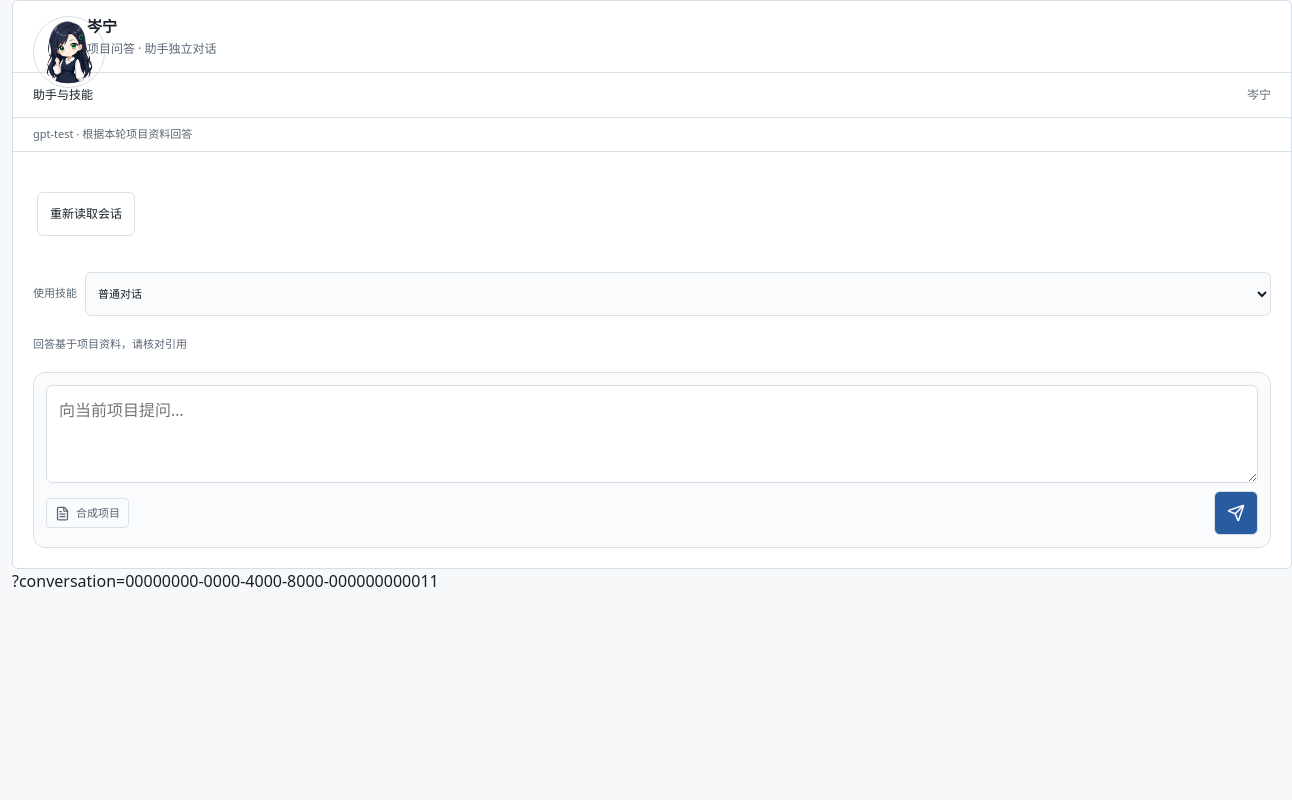
Scenario: 409 keeps the draft and requires an explicit reread before another send
Expected: the text "gpt-test" is shown, [33,126,74,141]
In the text box named "向项目知识提问": [652, 434] box [46,385,1258,483], type "冲突后保留草稿"
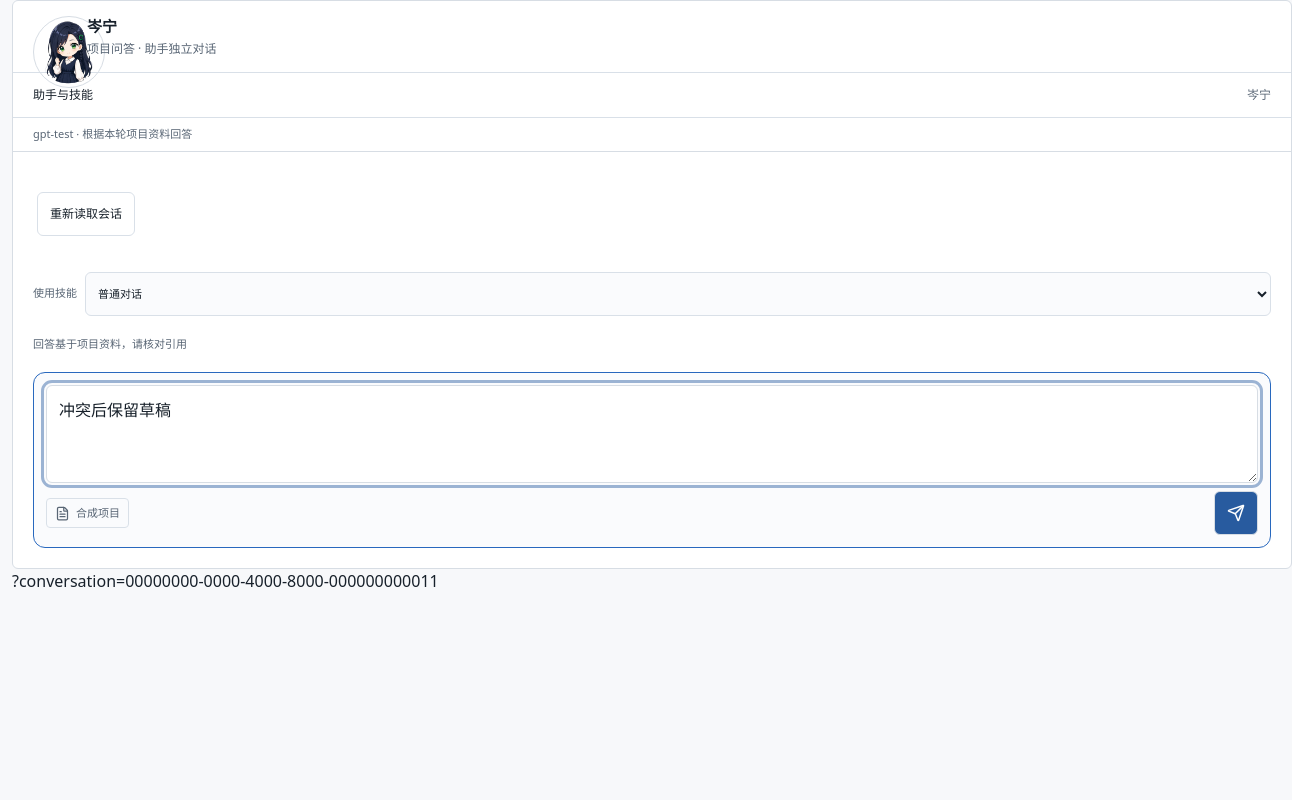
Click the button named "生成回答": [1236, 513] box [1214,491,1258,535]
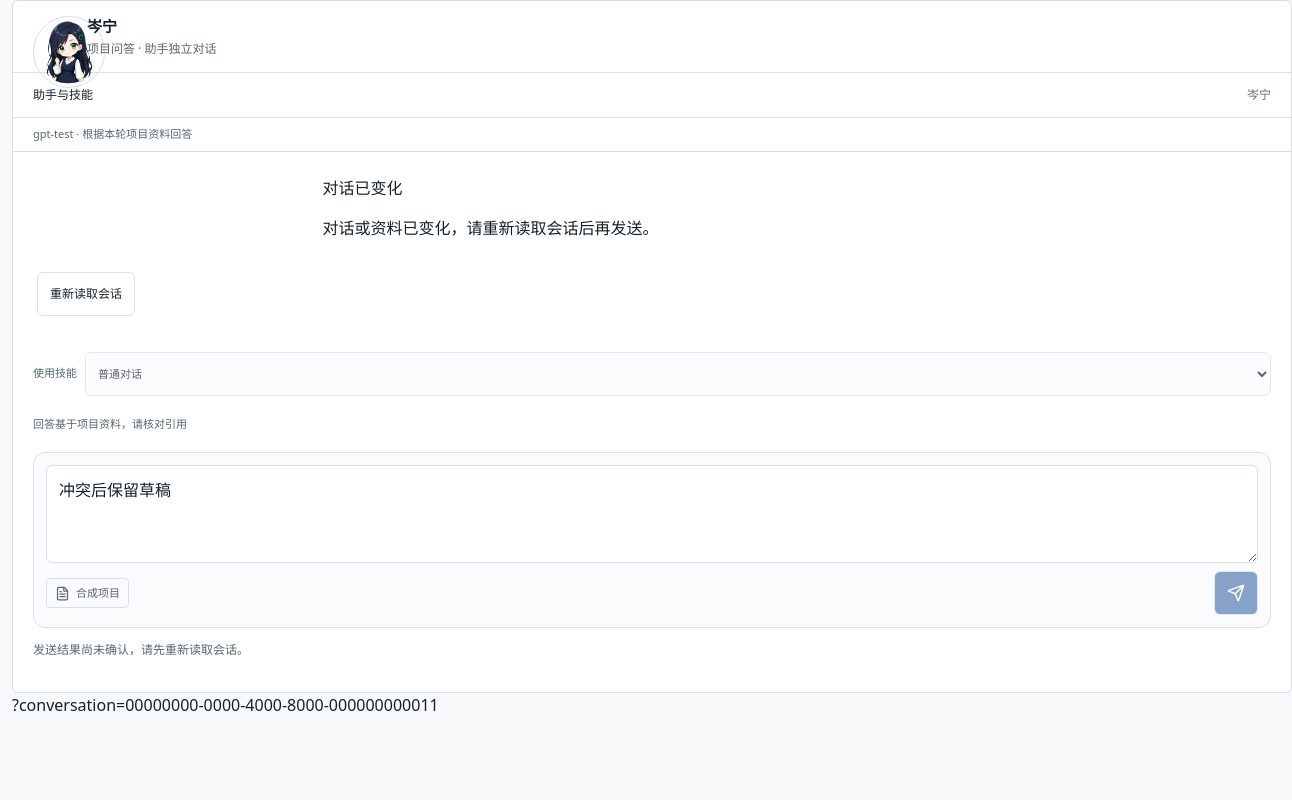
Now the text "对话或资料已变化，请重新读取会话后再发送。" is shown, box [322,216,658,238]
Now the button named "生成回答" is disabled, box [1214,571,1258,615]
Click the button "重新读取会话": [86, 294] box [37,272,135,316]
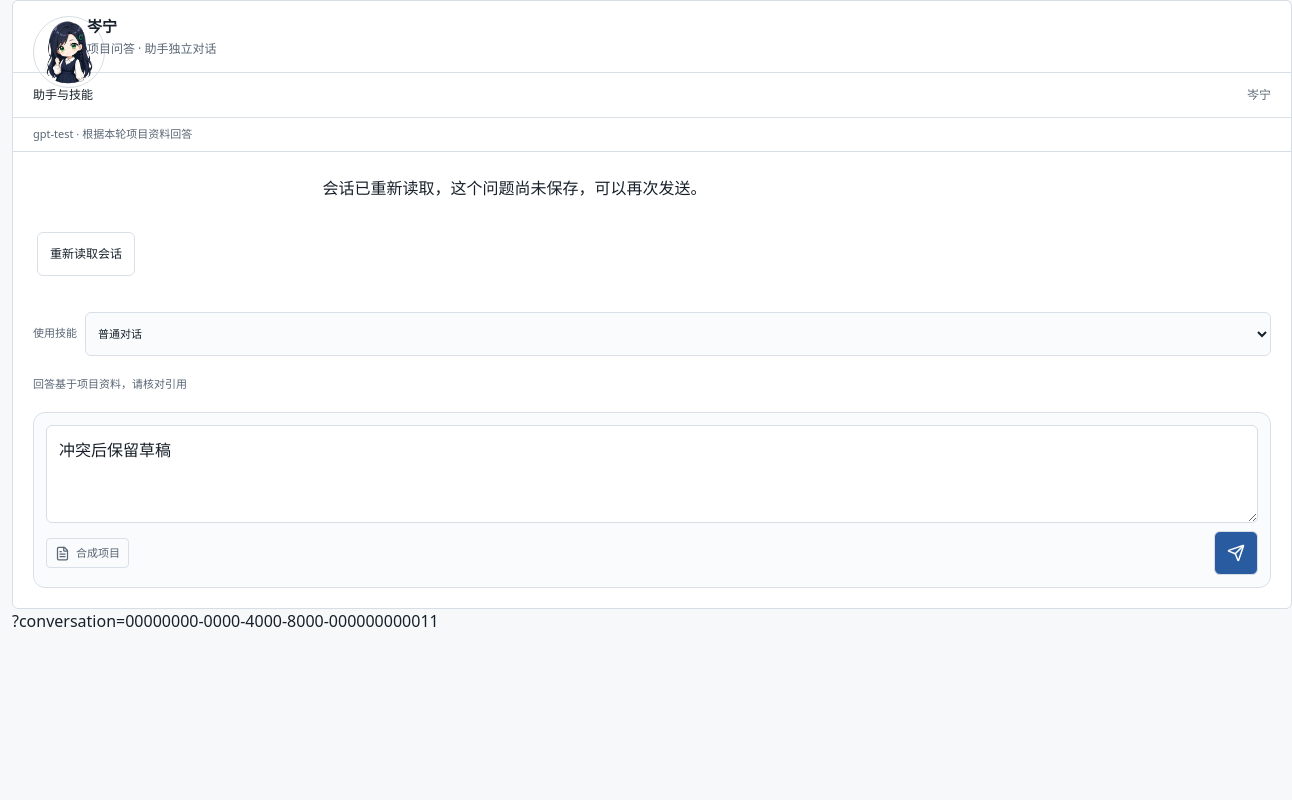
Now the text "会话已重新读取，这个问题尚未保存，可以再次发送。" is shown, box [322,176,706,198]
Now the button named "生成回答" is enabled, box [1214,531,1258,575]
